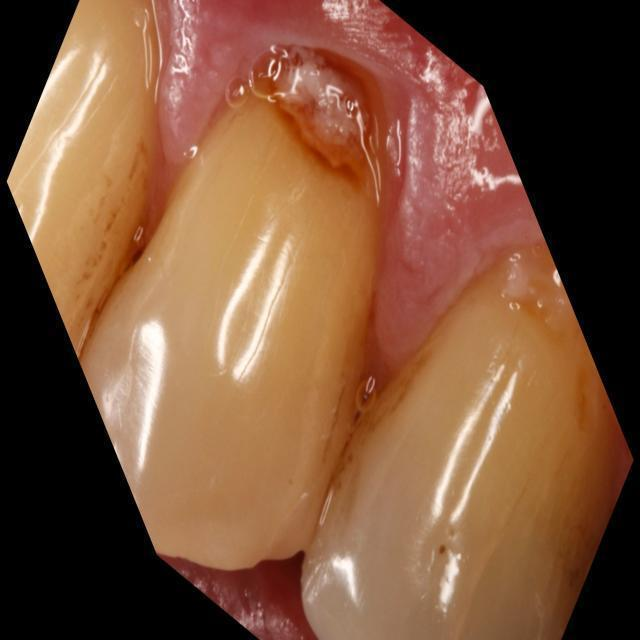Cavity: (235, 20, 423, 266), (382, 417, 539, 631), (78, 99, 179, 388)
